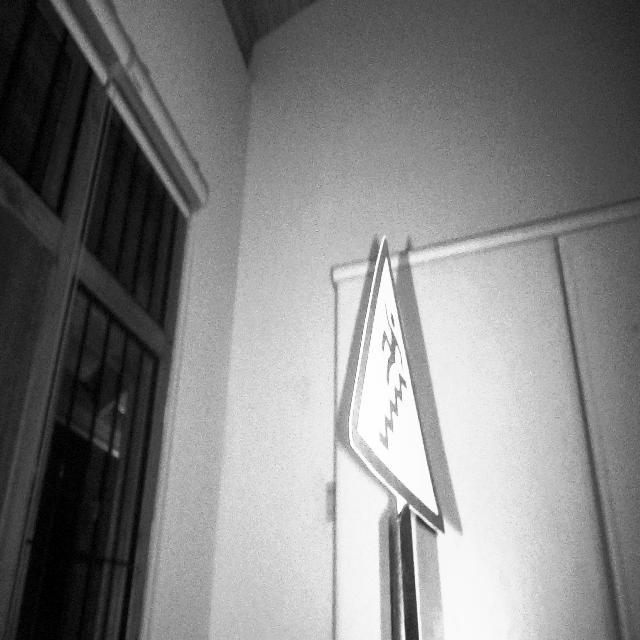Sign: (346, 233, 446, 538)
